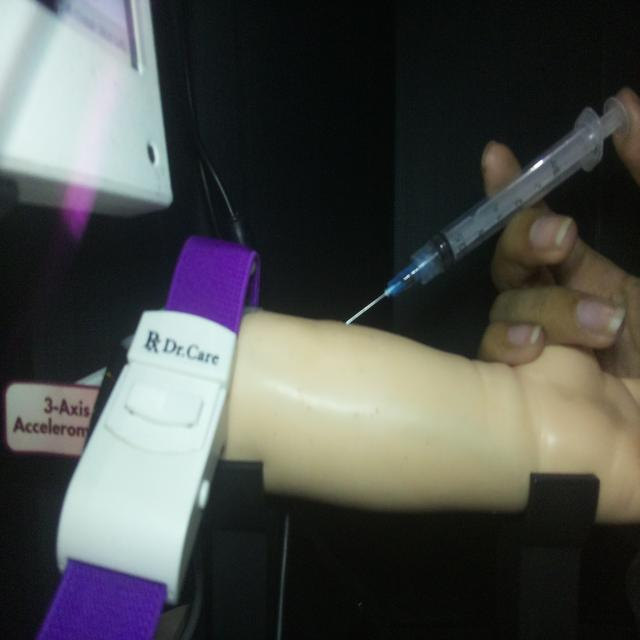29 degrees: (343, 90, 630, 327)
